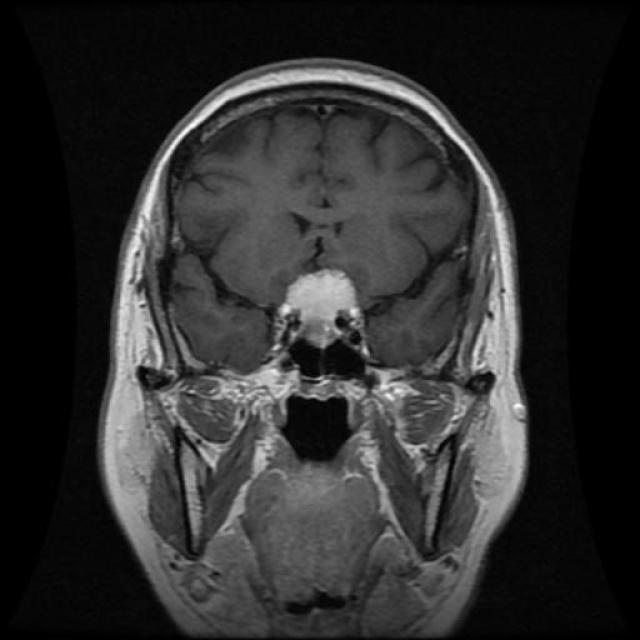pituitary: (264, 242, 377, 363)
